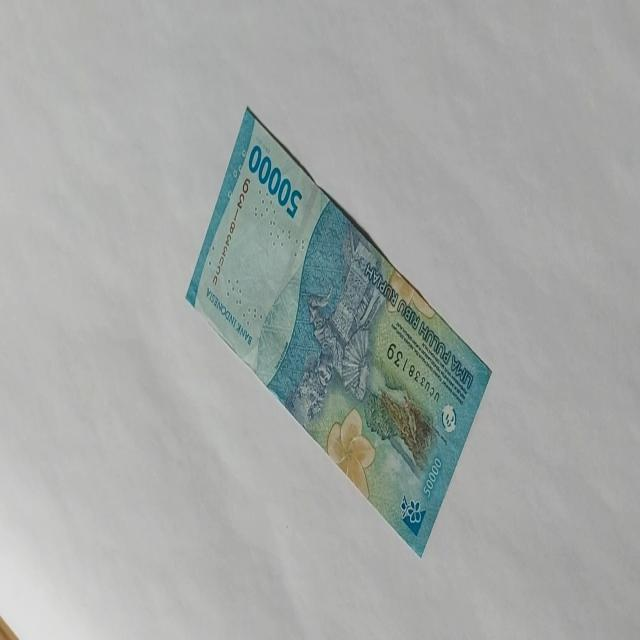lima puluh ribu rupiah: (185, 104, 493, 558), (247, 142, 303, 220)
